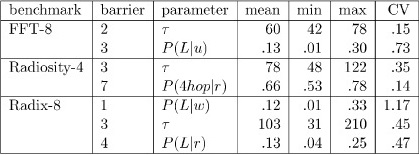column: (8, 1, 84, 155), (161, 1, 229, 155), (99, 1, 147, 155), (245, 1, 281, 155), (383, 1, 413, 155), (338, 1, 368, 154), (296, 1, 325, 155)
row: (1, 40, 419, 56), (1, 79, 419, 94), (1, 98, 419, 112), (1, 22, 418, 36), (1, 136, 418, 150), (1, 117, 419, 130), (1, 60, 418, 73), (1, 4, 418, 16)
